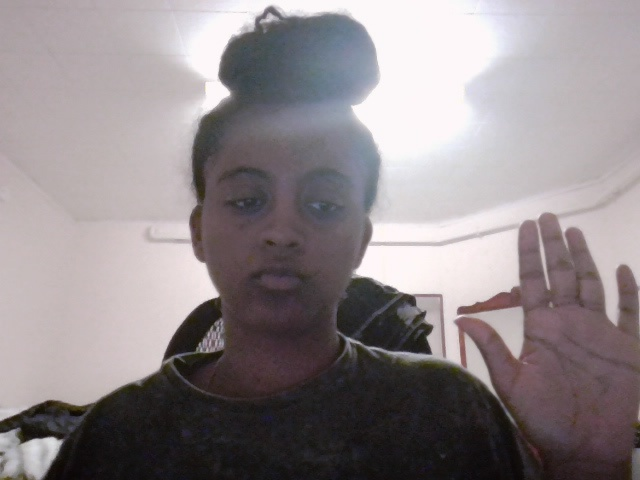hello: (449, 211, 640, 480)
